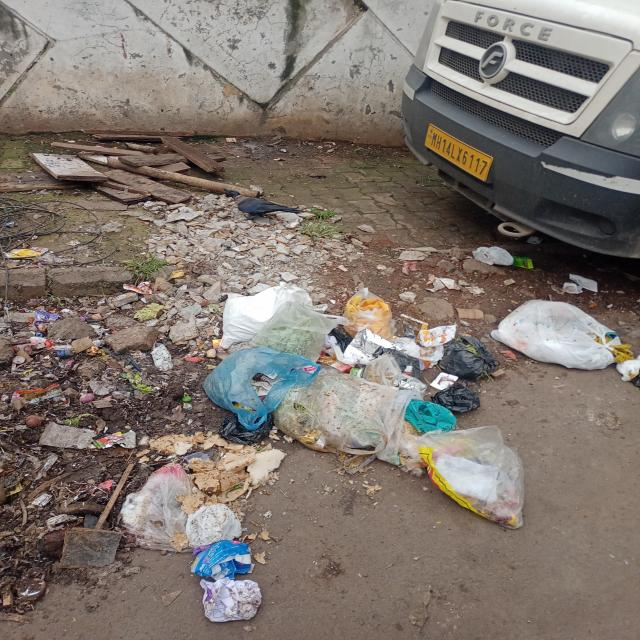garbage: (141, 263, 611, 598)
